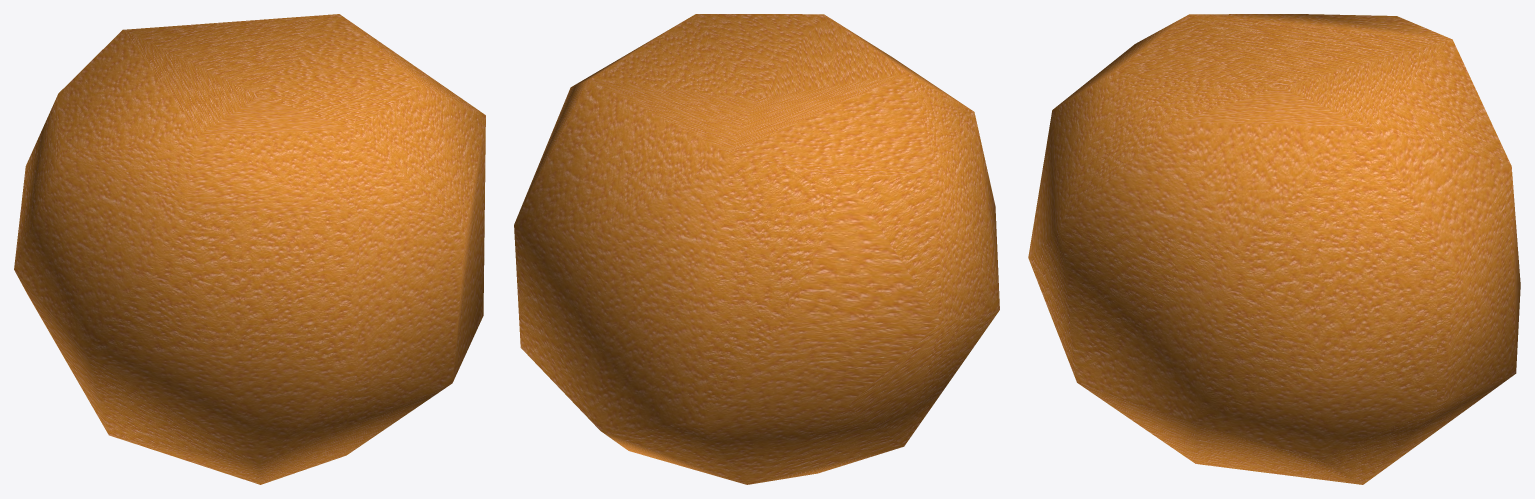
File: Naranja.fbx
3 renders of one model, left to right at view 1: azimuth 30°, elevation 25°; view 2: azimuth 150°, elevation 25°; view 3: azimuth 270°, elevation 25°, orthographic. The views are drawn at different scales.
Parts seen in each view (by area): view 1: NARANJA; view 2: NARANJA; view 3: NARANJA.
Part boxes in pixels (<box>): NARANJA: <box>14,14,485,484</box>; NARANJA: <box>514,14,999,484</box>; NARANJA: <box>1028,14,1520,484</box>.
Size of the model in its own units: 20.05 by 16.42 by 19.31.
1 material, 1 textured.
